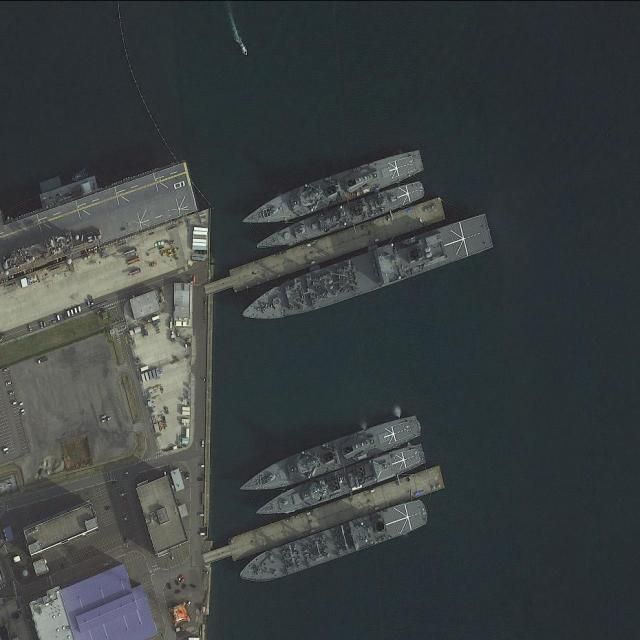Auxiliary Ships: (237, 213, 496, 332), (235, 497, 431, 588)
Destroyer: (235, 145, 431, 236), (233, 412, 427, 500), (251, 438, 426, 525), (252, 178, 429, 257)
Dock: (204, 465, 450, 567), (206, 199, 447, 298)
